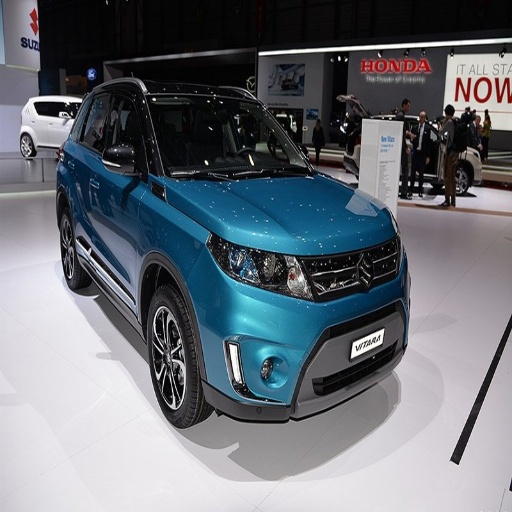front_bumper: (191, 243, 409, 422)
front_right_door: (97, 81, 145, 304)
front_right_light: (207, 237, 315, 299)
